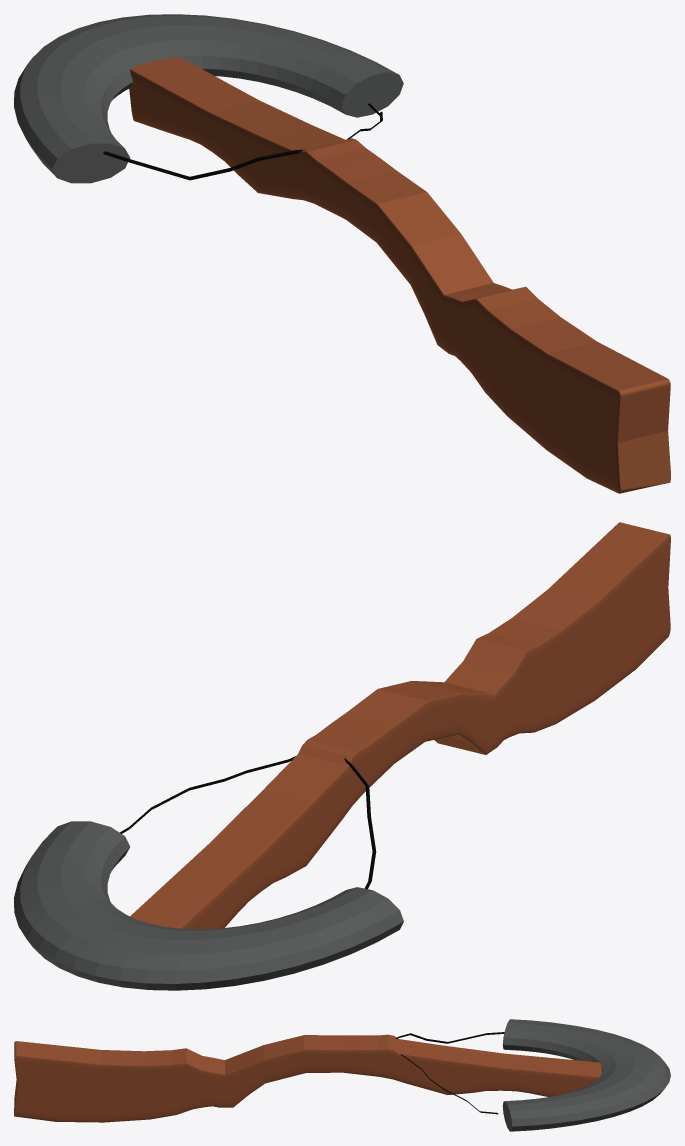
File: CrossbowUnloaded.fbx
The picture shows the model from 3 angles, top to bottom: view 1: azimuth 30°, elevation 25°; view 2: azimuth 150°, elevation 25°; view 3: azimuth 270°, elevation 25°; orthographic projection. The views are drawn at different scales.
Visible parts, largest first — view 1: Cube, Torus, Strings; view 2: Cube, Torus, Strings; view 3: Cube, Torus, Strings.
Boxes of the visible parts, x1,y1,x2,y2 form: Cube: (129, 57, 670, 493); Torus: (14, 14, 403, 183); Strings: (103, 103, 382, 180); Cube: (130, 522, 670, 929); Torus: (14, 821, 403, 990); Strings: (120, 756, 376, 888); Cube: (14, 1034, 601, 1122); Torus: (502, 1019, 670, 1131); Strings: (395, 1032, 504, 1114).
Size of the model in its own units: 177 by 59.35 by 479.
